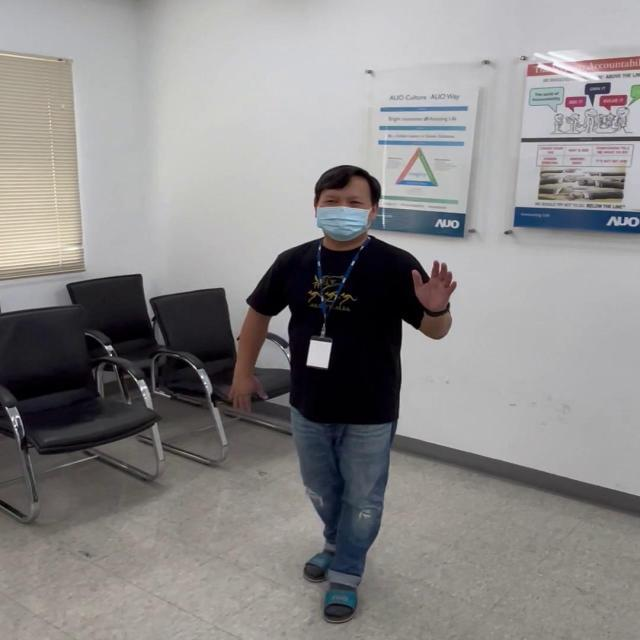bare_hand: (411, 256, 456, 312), (223, 367, 267, 415)
